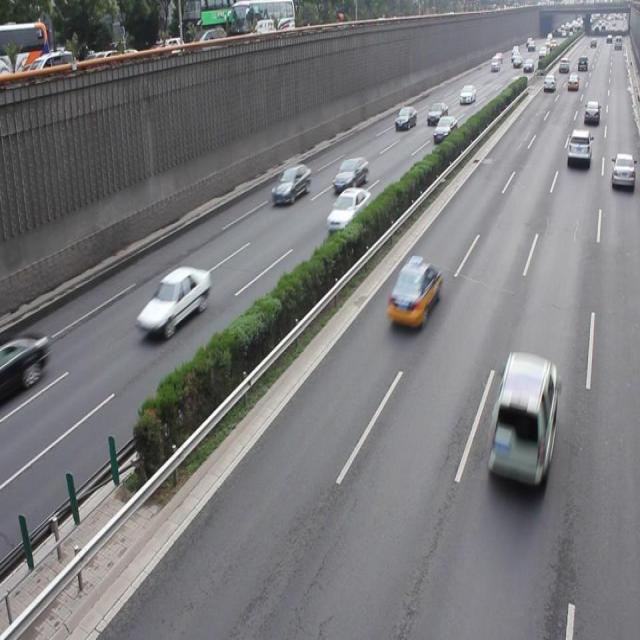car: (488, 350, 556, 488), (137, 265, 211, 338), (1, 322, 51, 400), (387, 258, 441, 328), (325, 187, 370, 230), (272, 162, 312, 204), (332, 154, 370, 191), (609, 150, 640, 191)
